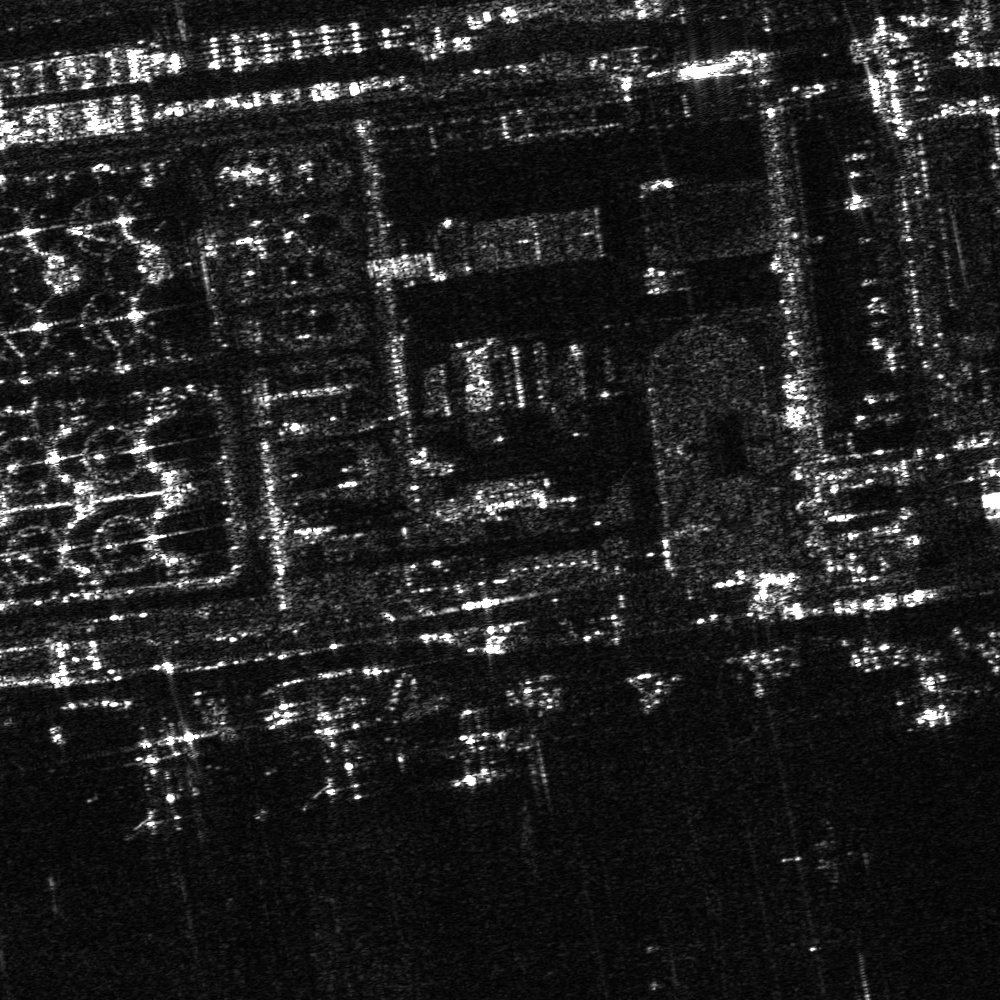Boeing737: (889, 665, 976, 723)
other: (94, 733, 240, 837), (267, 707, 407, 811), (439, 701, 520, 787)
